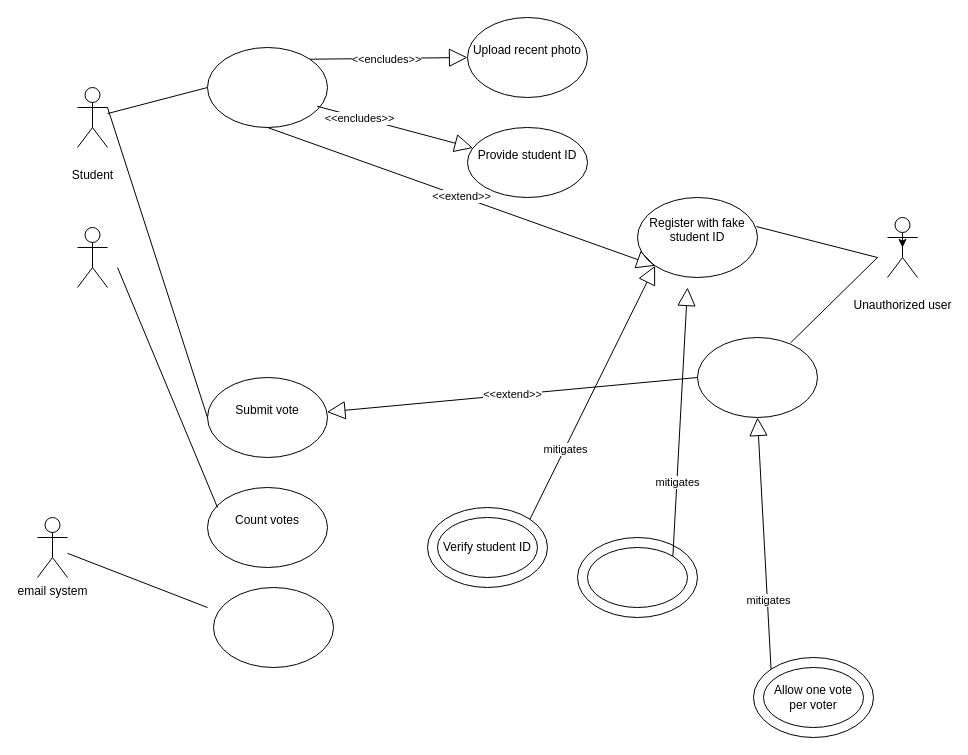
Image size: 968x755. Some labels were removed from this diagram. The shapes that lost their labels are listed below. From the top down, each one's centre as x and y in pixels, then its label:
[267,87]: Register as voter
[92,257]: Coordinator
[757,377]: Submit duplicate/ fake vote
[637,577]: Validate photo
[273,627]: Announce winner by email
